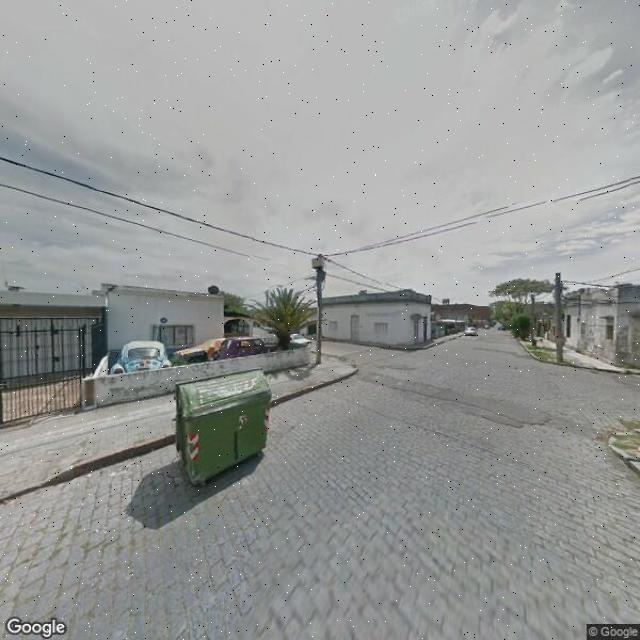garbage container: (164, 360, 281, 498)
